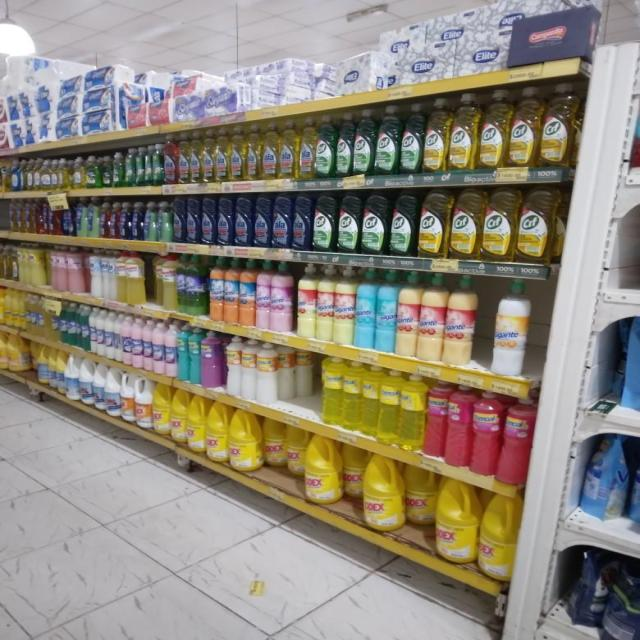ala_conc_amarillo: (280, 119, 298, 179), (299, 117, 315, 180), (262, 121, 279, 180), (246, 124, 262, 180), (230, 125, 246, 181), (216, 126, 230, 182), (202, 128, 215, 183), (178, 132, 190, 184), (190, 130, 201, 183)
ala_conc_azul: (293, 192, 313, 251), (272, 192, 292, 250), (253, 191, 271, 248), (235, 192, 252, 247), (217, 193, 233, 246), (201, 193, 217, 245), (186, 194, 200, 244), (172, 195, 185, 243)
ala_conc_rojo: (164, 134, 177, 185)
ala_crem_amarillo: (28, 243, 46, 286), (20, 243, 30, 285)
ala_crem_rosado: (50, 245, 67, 292)
cif_conc_bot_amarilla: (541, 84, 577, 168), (517, 188, 555, 264), (509, 86, 540, 168), (482, 188, 516, 262), (479, 89, 508, 170), (450, 92, 478, 172), (450, 189, 481, 260), (418, 188, 449, 258), (424, 97, 448, 173)
cif_conc_botella_verde: (390, 190, 417, 257), (362, 190, 388, 256), (376, 106, 400, 176), (401, 102, 423, 174), (337, 191, 360, 254), (354, 109, 375, 176), (314, 192, 336, 253), (316, 115, 335, 179), (336, 111, 352, 178), (153, 141, 164, 186)
esencial: (501, 396, 532, 486), (472, 390, 500, 478), (446, 384, 471, 468), (400, 373, 425, 450), (379, 368, 400, 444), (426, 380, 446, 459), (320, 356, 342, 426), (256, 341, 278, 404), (342, 360, 361, 431), (201, 330, 223, 389), (361, 364, 379, 435), (224, 335, 242, 397), (240, 338, 256, 399), (278, 345, 295, 402), (188, 326, 202, 384), (177, 324, 188, 382)
gigante: (491, 278, 526, 377), (444, 274, 474, 366), (418, 272, 444, 362), (396, 270, 418, 358), (375, 268, 397, 352), (354, 266, 376, 348), (333, 265, 355, 345), (270, 260, 294, 333), (180, 254, 207, 316), (295, 262, 316, 338), (316, 264, 334, 341), (255, 259, 272, 329), (239, 258, 256, 326), (208, 256, 225, 321), (224, 257, 239, 324), (164, 322, 177, 378), (152, 320, 165, 374), (131, 316, 143, 369), (143, 318, 153, 372)
vencedor: (155, 253, 177, 311), (124, 251, 148, 304)
